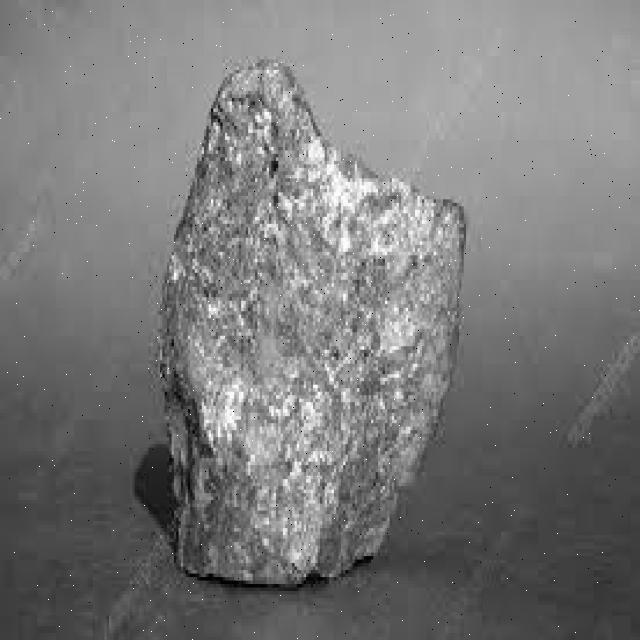Metamorphic: (162, 52, 438, 580)
